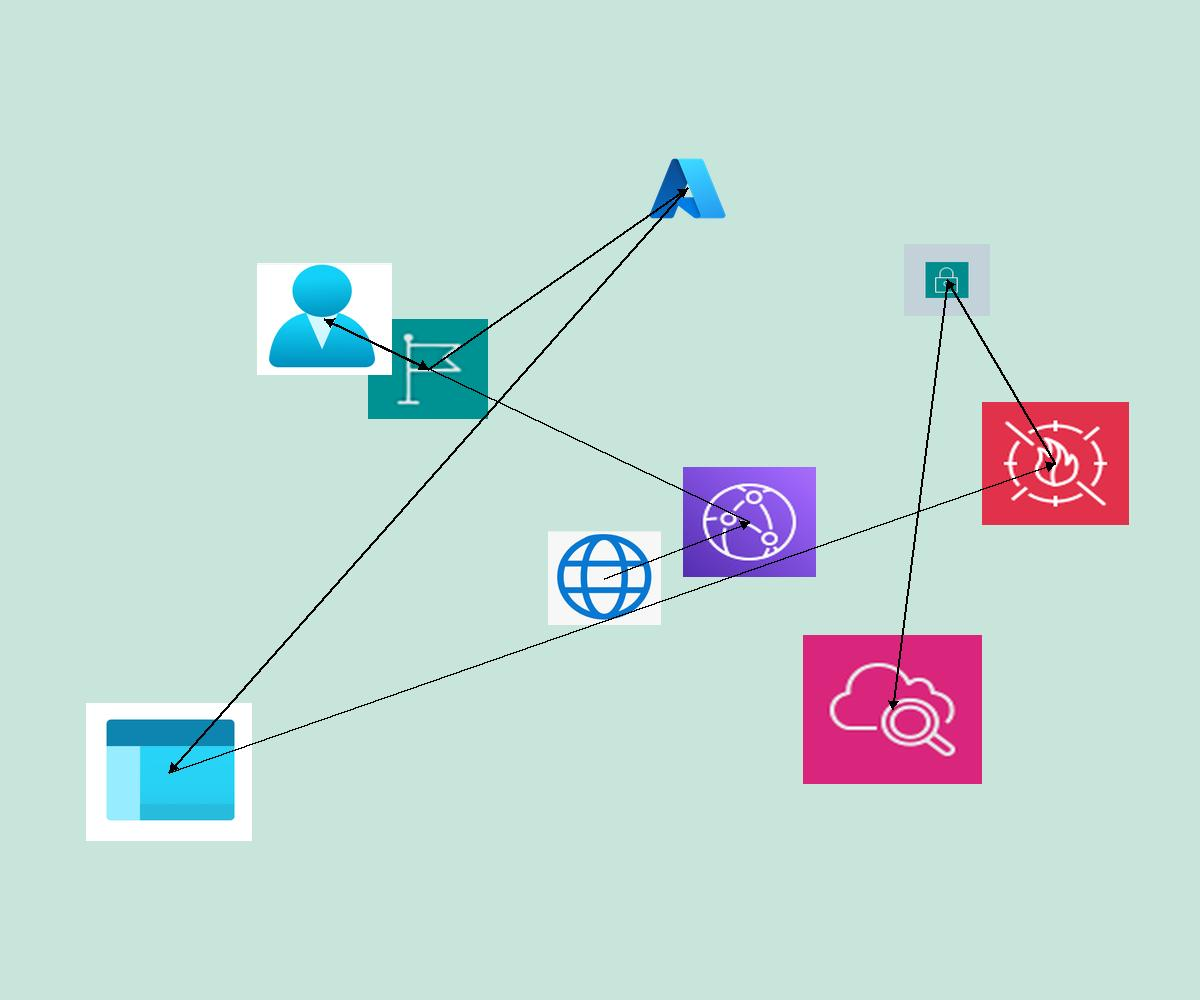AWS-CloudFront: (683, 467, 816, 577)
AWS-CloudWatch: (803, 635, 982, 784)
AWS-Private-subnet: (904, 244, 990, 316)
AWS-Region: (368, 319, 488, 419)
AWS-WAF: (982, 402, 1129, 525)
Azure_http: (548, 531, 661, 625)
Azure_management-portal: (86, 703, 252, 841)
Azure_services: (646, 154, 729, 223)
Azure_users: (257, 263, 392, 375)
